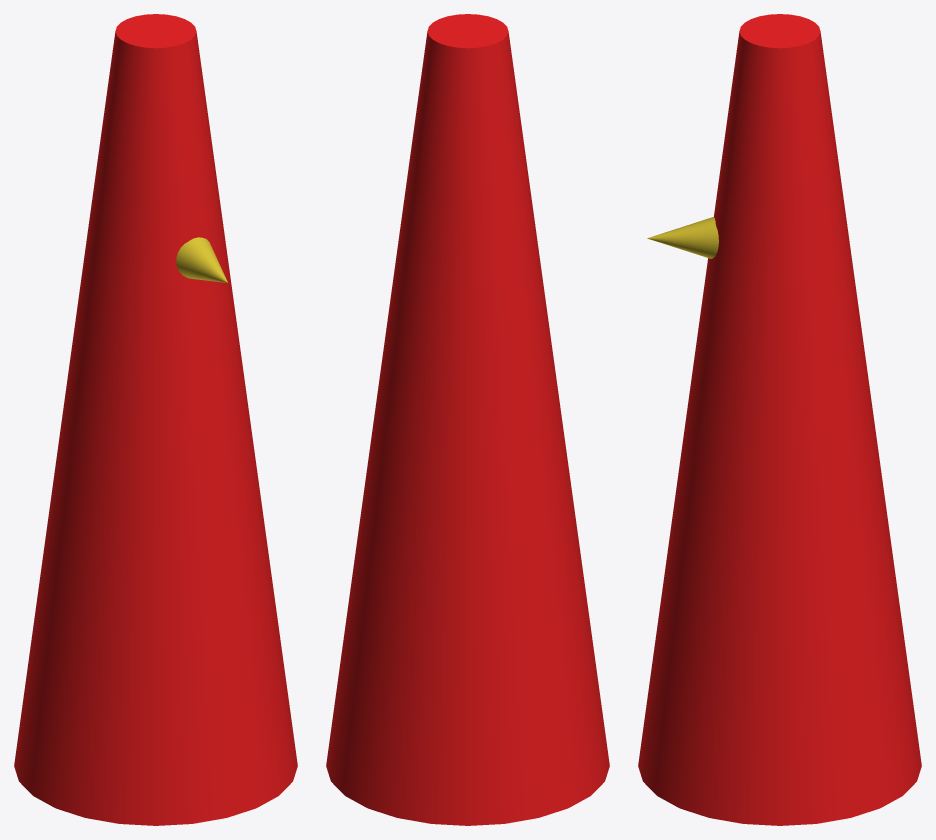
Rendered from Skin_red.fbx.
The picture shows the model from 3 angles, left to right: view 1: azimuth 30°, elevation 25°; view 2: azimuth 150°, elevation 25°; view 3: azimuth 270°, elevation 25°; orthographic projection.
Parts seen in each view (by area): view 1: Cone001, Cone003; view 2: Cone001; view 3: Cone001, Cone003.
Boxes of the visible parts, <box> form: Cone001: <box>14,14,297,825</box>; Cone003: <box>176,237,227,282</box>; Cone001: <box>326,14,609,825</box>; Cone001: <box>638,14,921,825</box>; Cone003: <box>647,217,718,258</box>.
Size of the model in its own units: 2.6 by 7.44 by 2.6.
